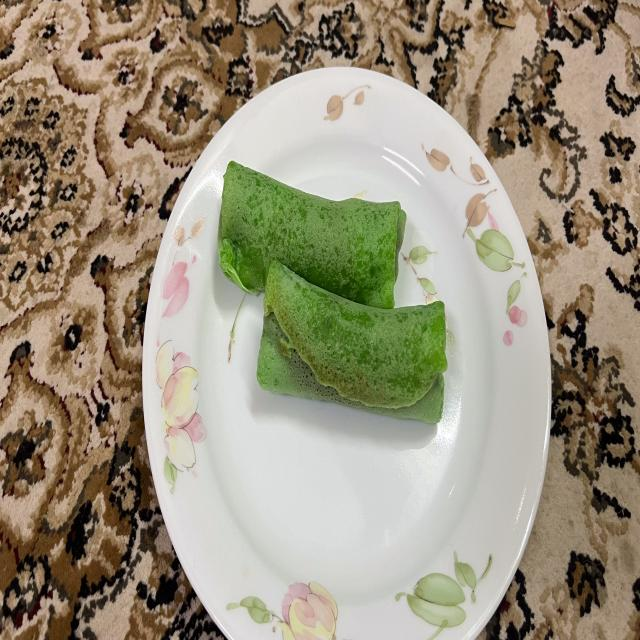Kuih-Ketayap: (256, 260, 448, 424), (218, 162, 406, 309)
